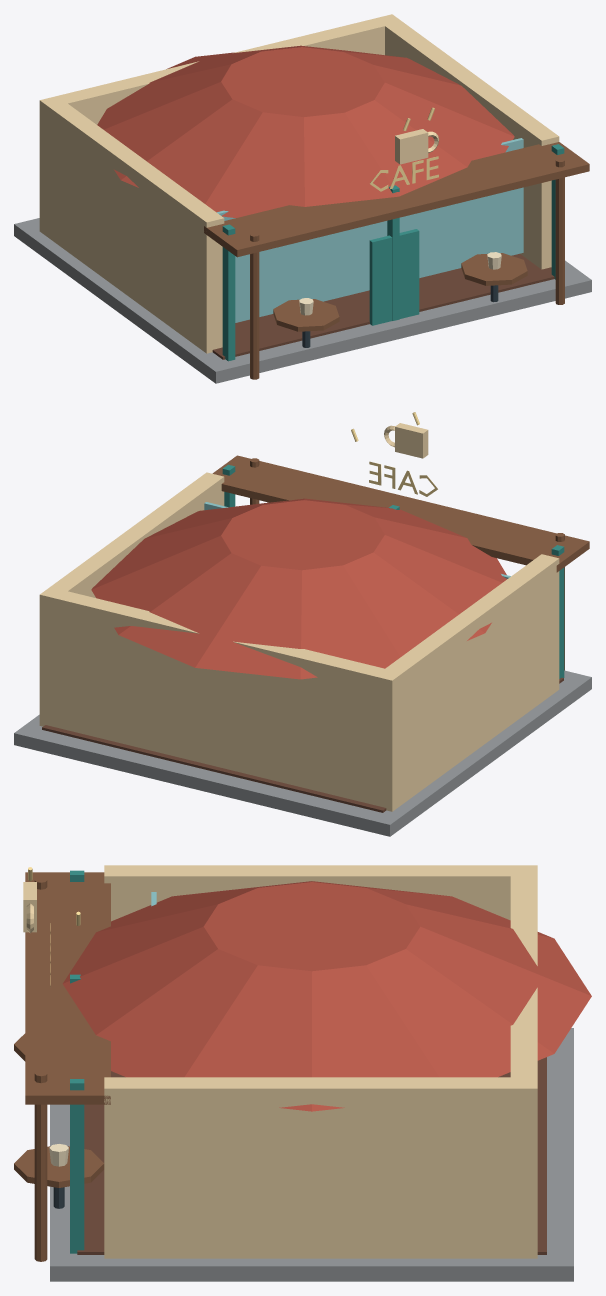
File: storefront_cafe.glb
3 views of the same model, one above another, from view 1: azimuth 30°, elevation 25°; view 2: azimuth 150°, elevation 25°; view 3: azimuth 270°, elevation 25° (orthographic). The views are drawn at different scales.
Visible parts, largest first — view 1: round_roof, side_wall, window_back, foundation, pergola, side_wall.001, rear_wall, floor, door, front_post, table, table.001 (+6 smaller); view 2: round_roof, rear_wall, side_wall, foundation, pergola, side_wall.001, floor, cup.002, front_post, sign_cafe; view 3: round_roof, side_wall.001, foundation, pergola, side_wall, rear_wall, floor, front_post.002, porch_post.001, table.001.
Part boxes in pixels (x1,y1,x2,y2): round_roof: [97, 45, 514, 217]; side_wall: [46, 101, 224, 353]; window_back: [217, 138, 523, 322]; foundation: [14, 218, 591, 383]; pergola: [204, 142, 589, 257]; side_wall.001: [383, 20, 559, 269]; rear_wall: [39, 14, 402, 238]; floor: [212, 253, 554, 359]; door: [369, 229, 419, 325]; front_post: [222, 224, 235, 361]; table: [273, 299, 339, 331]; table.001: [461, 253, 527, 285]; round_roof: [91, 498, 506, 679]; rear_wall: [39, 589, 402, 811]; side_wall: [385, 554, 559, 806]; foundation: [14, 670, 591, 836]; pergola: [212, 455, 589, 572]; side_wall.001: [47, 472, 224, 597]; floor: [42, 677, 563, 812]; cup.002: [395, 423, 428, 458]; front_post: [551, 545, 564, 678]; sign_cafe: [369, 461, 437, 496]; round_roof: [62, 881, 591, 1111]; side_wall.001: [104, 1077, 519, 1258]; foundation: [50, 1028, 573, 1281]; pergola: [25, 872, 110, 1104]; side_wall: [104, 865, 519, 921]; rear_wall: [510, 865, 537, 1258]; floor: [77, 1057, 546, 1254]; front_post.002: [70, 1079, 84, 1253]; porch_post.001: [34, 1071, 47, 1261]; table.001: [14, 1146, 104, 1187].
Bounding box in the file's own units: 6.6 × 3.79 × 6.77.
